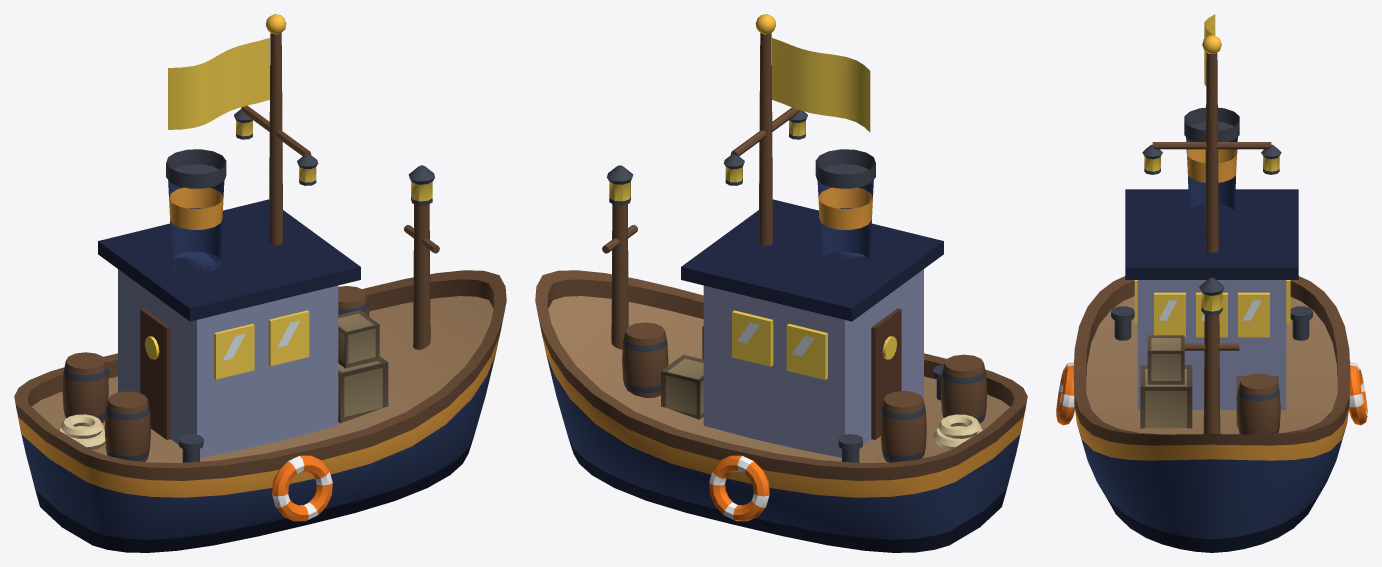
The model's file is cel-shaded-noche.glb.
The picture shows the model from 3 angles, left to right: view 1: azimuth 30°, elevation 25°; view 2: azimuth 150°, elevation 25°; view 3: azimuth 270°, elevation 25°; orthographic projection. The views are drawn at different scales.
Parts seen in each view (by area): view 1: hull, cabin, cargo, rigging, flag; view 2: hull, cabin, cargo, rigging, flag; view 3: hull, cabin, cargo, rigging, glints.
Boxes of the visible parts, <box> form: hull: <box>14,270,506,552</box>; cabin: <box>98,149,360,457</box>; cargo: <box>59,286,388,521</box>; rigging: <box>234,14,439,349</box>; flag: <box>168,38,269,129</box>; hull: <box>535,270,1027,552</box>; cabin: <box>681,149,943,457</box>; cargo: <box>622,322,987,521</box>; rigging: <box>602,14,807,349</box>; flag: <box>772,38,870,132</box>; hull: <box>1073,276,1350,552</box>; cabin: <box>1125,107,1298,410</box>; cargo: <box>1056,306,1367,434</box>; rigging: <box>1142,35,1281,433</box>; glints: <box>1158,300,1261,320</box>.
Bounding box in the file's own units: 2 × 1.93 × 1.26.
